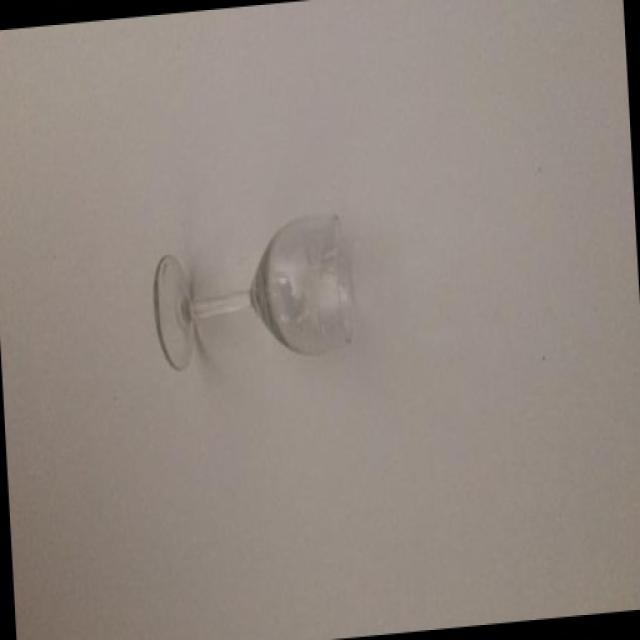vidrio: (107, 147, 426, 443)
